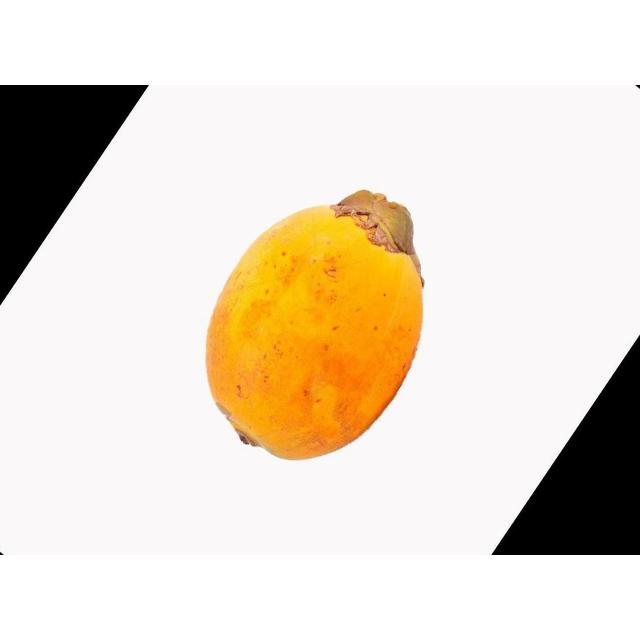good: (204, 190, 425, 464)
